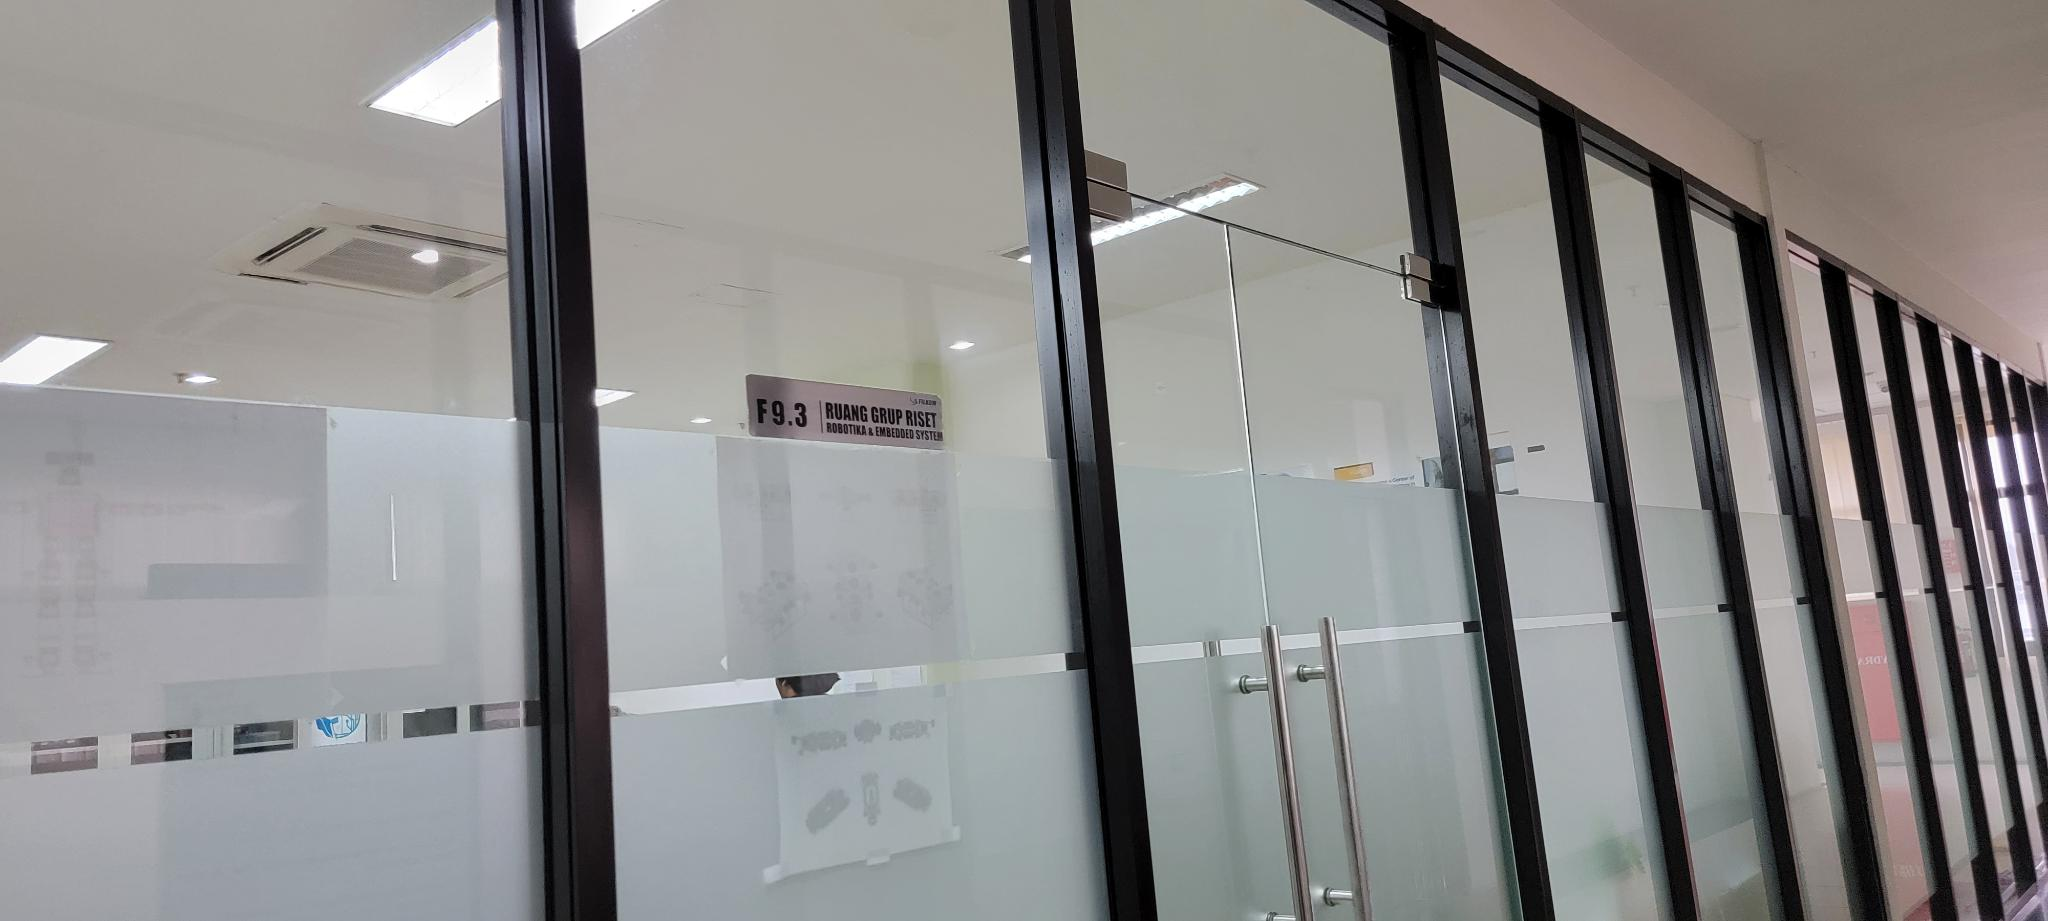plate: (747, 371, 948, 450)
